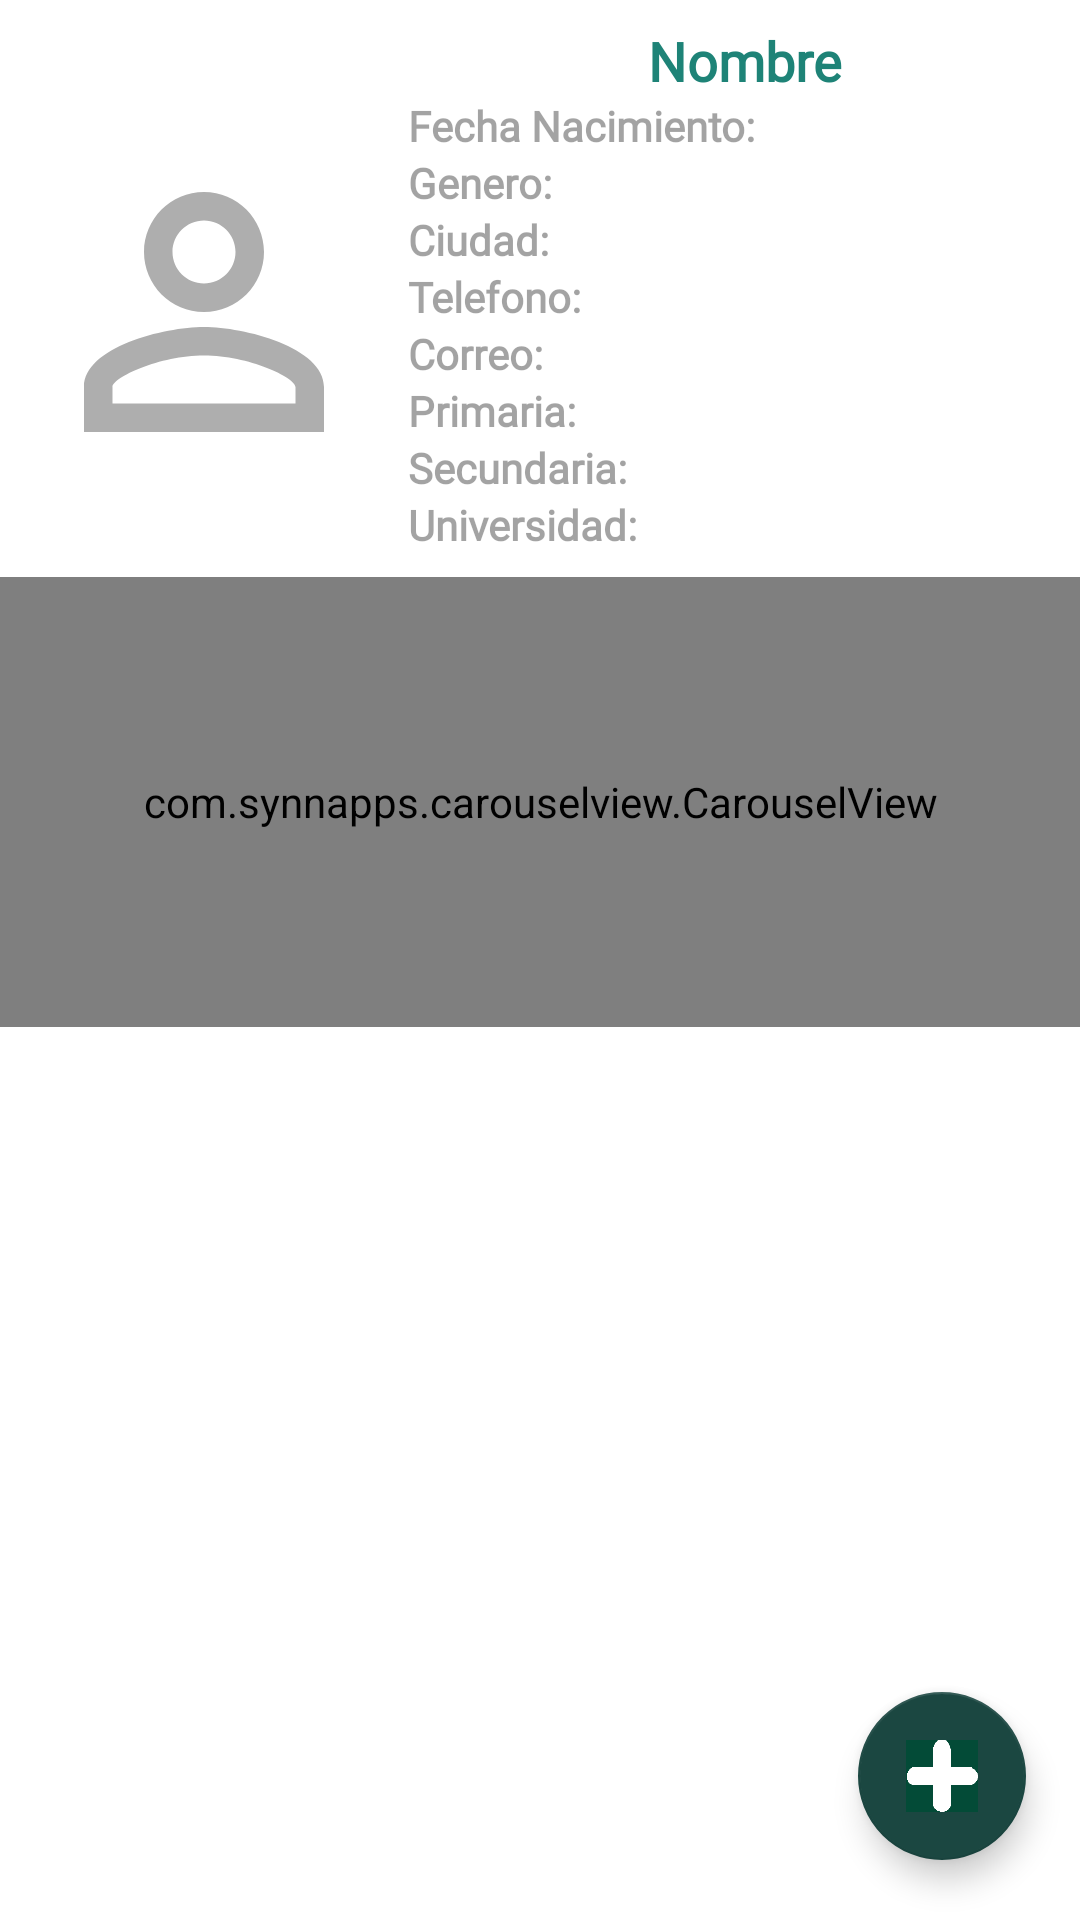

Named icons in this screenshot (1080*1920) and their bounding boxes, (x1, y1, x2, y2):
imagen perfil: (84, 192, 324, 432)
plus: (858, 1692, 1026, 1860)
